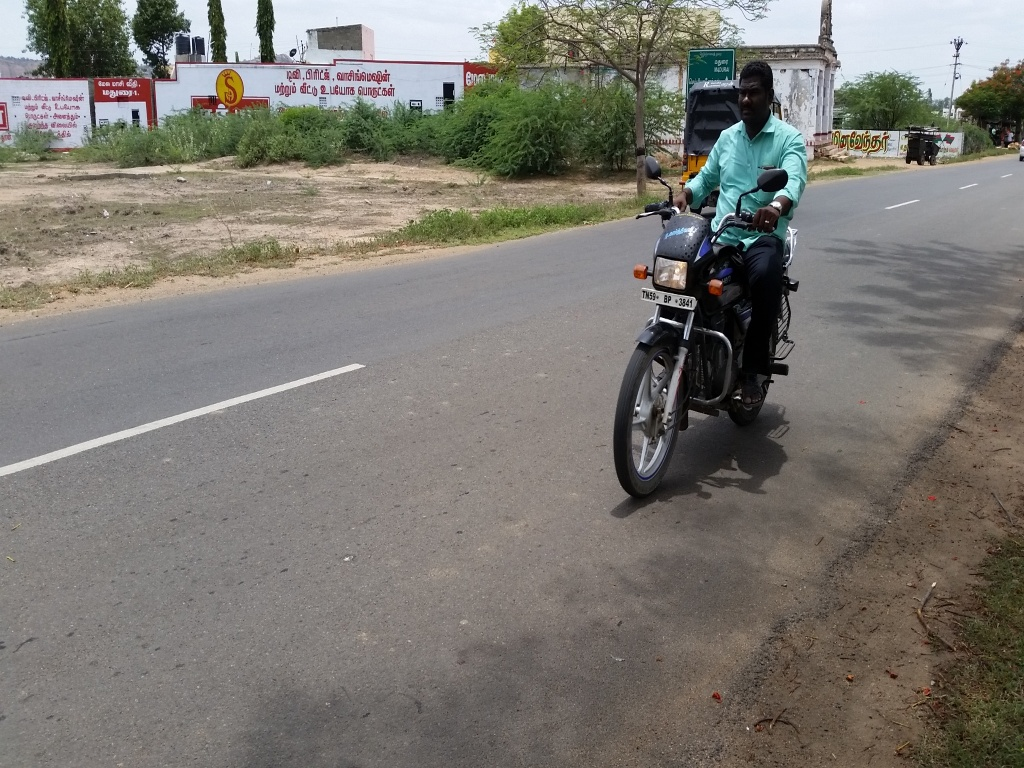biker: (592, 27, 827, 514)
nohelmet: (731, 52, 787, 146)
